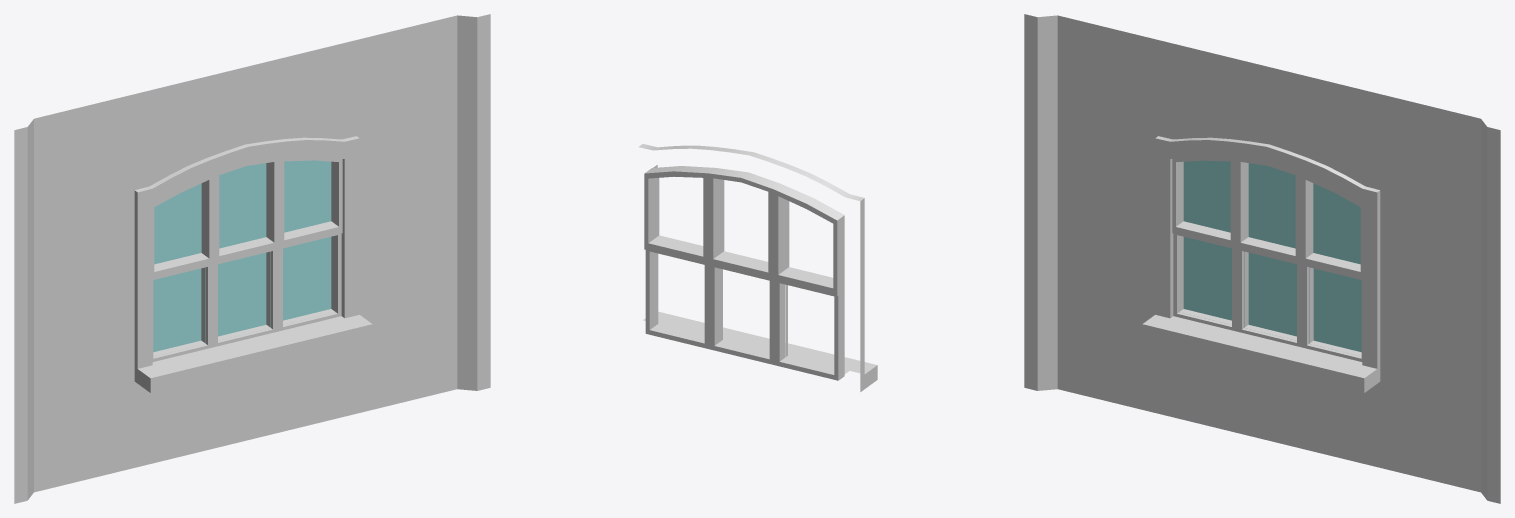
Rendered from Brick_Inset_Window_Curved.gltf.
The picture shows the model from 3 angles, left to right: view 1: azimuth 30°, elevation 25°; view 2: azimuth 150°, elevation 25°; view 3: azimuth 330°, elevation 25°; orthographic projection.
Visible parts, largest first — view 1: Brick_Inset_Window_Curved; view 2: Brick_Inset_Window_Curved; view 3: Brick_Inset_Window_Curved.
Part boxes in pixels (x1,y1,x2,y2): Brick_Inset_Window_Curved: [14, 14, 490, 503]; Brick_Inset_Window_Curved: [639, 144, 877, 391]; Brick_Inset_Window_Curved: [1024, 14, 1500, 503].
Bounding box in the file's own units: 4 × 3 × 0.3737.
